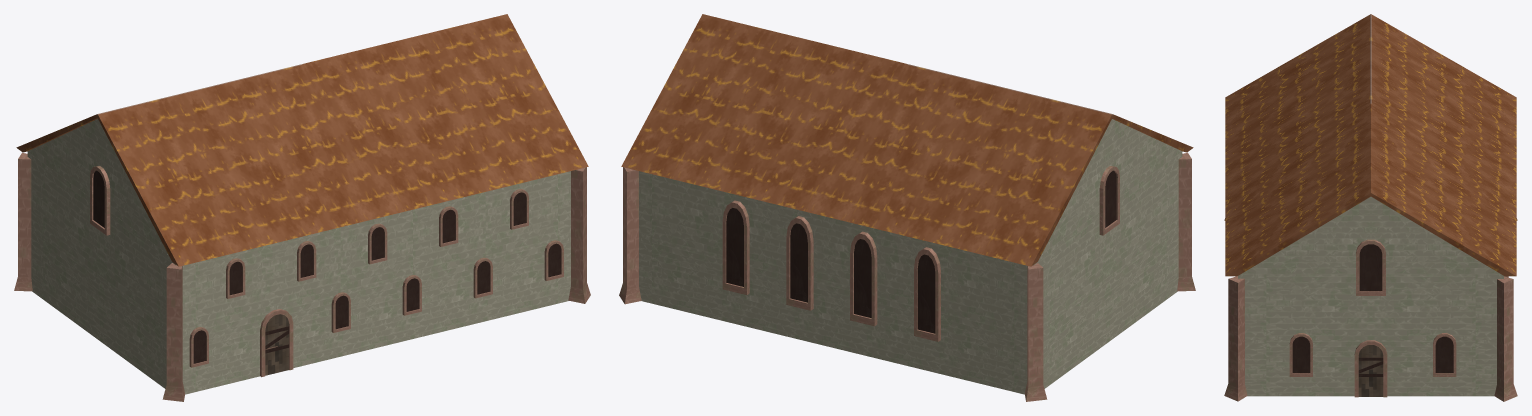
The model's file is SM_Building_002_BigHall.fbx.
3 views of the same model, side by side, from view 1: azimuth 30°, elevation 25°; view 2: azimuth 150°, elevation 25°; view 3: azimuth 270°, elevation 25° (orthographic). The views are drawn at different scales.
Visible parts, largest first — view 1: polySurface729; view 2: polySurface729; view 3: polySurface729.
Part boxes in pixels (box(x1,y1,x2,y2)): polySurface729: box(14, 14, 590, 401); polySurface729: box(619, 14, 1195, 401); polySurface729: box(1224, 14, 1517, 401).
Size of the model in its own units: 1190 by 609 by 789.
